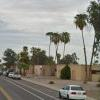Palm tree: (40, 16, 92, 62)
